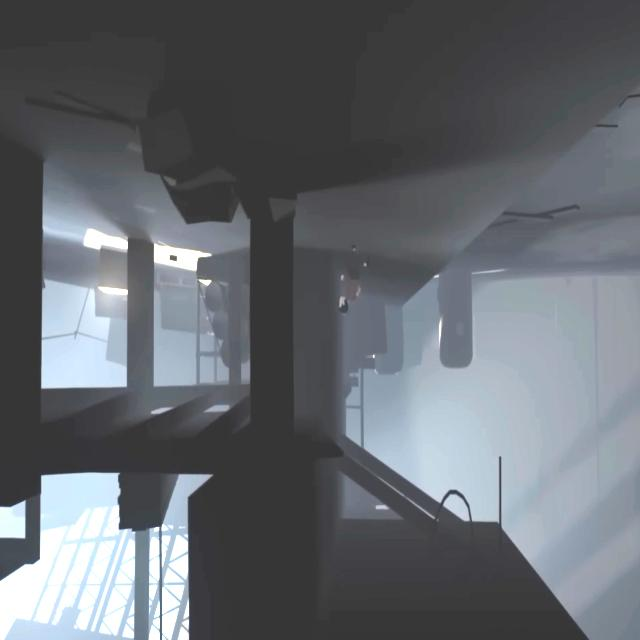boy: (338, 238, 370, 316)
